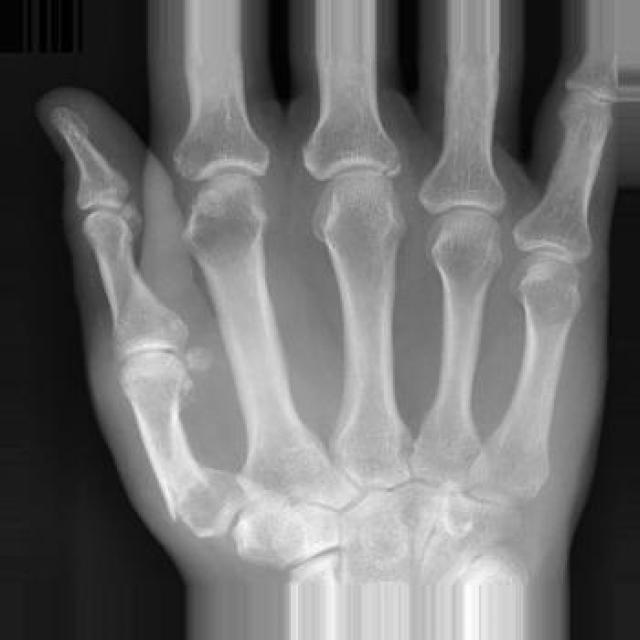Fracture: (146, 472, 212, 529)
